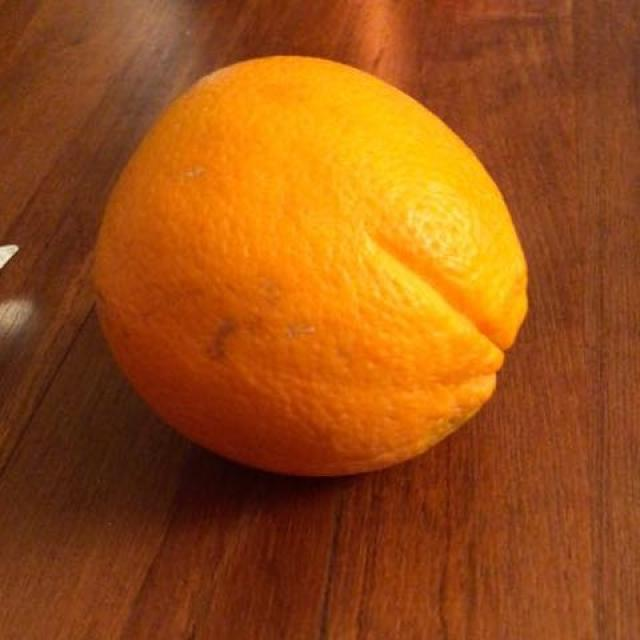Orange: (78, 40, 542, 495)
